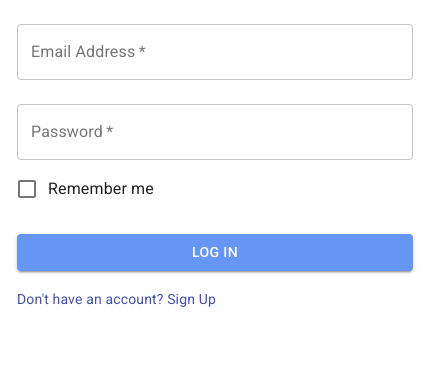
Test: sign in form behavior › displays error message if the form is submitted when field is empty
Click the button with test id "signin-btn".
click(215, 252)  # box x1=17 y1=234 x2=413 y2=270
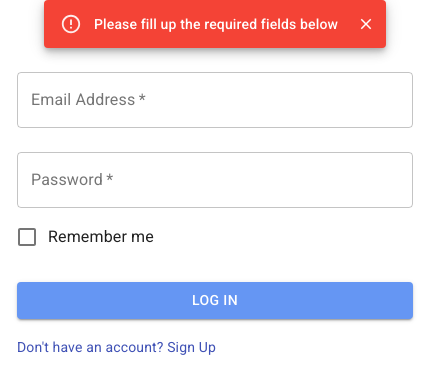
Expected: the message with test id "alert" reads "Please fill up the required fields below", x1=94 y1=16 x2=338 y2=32
